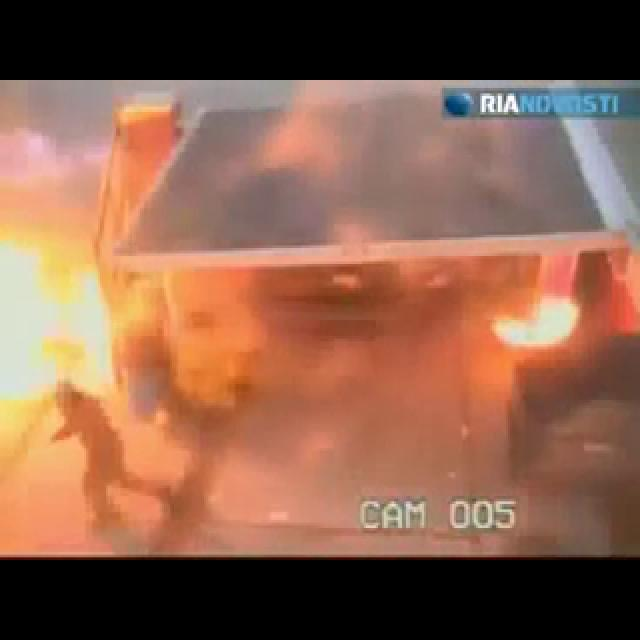explosion: (32, 42, 640, 558)
